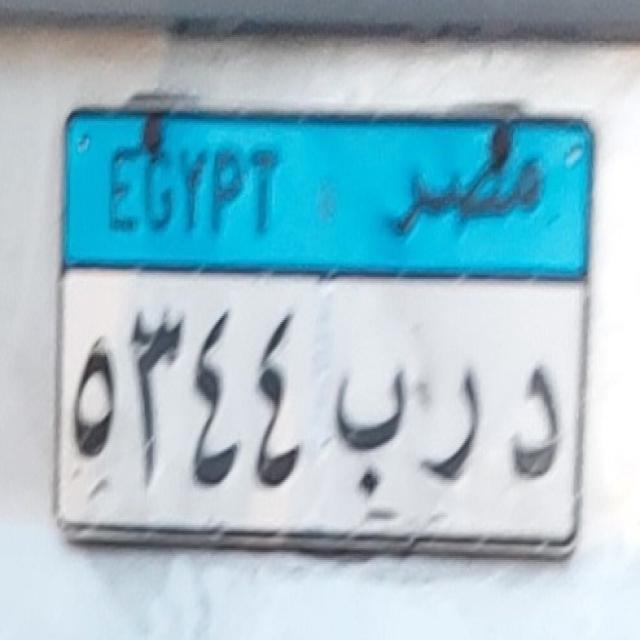3: (116, 292, 190, 502)
4: (177, 302, 250, 510), (241, 304, 315, 498)
5: (59, 324, 130, 470)
R: (416, 352, 497, 502)
baa: (323, 333, 419, 519)
daal: (498, 348, 578, 501)
